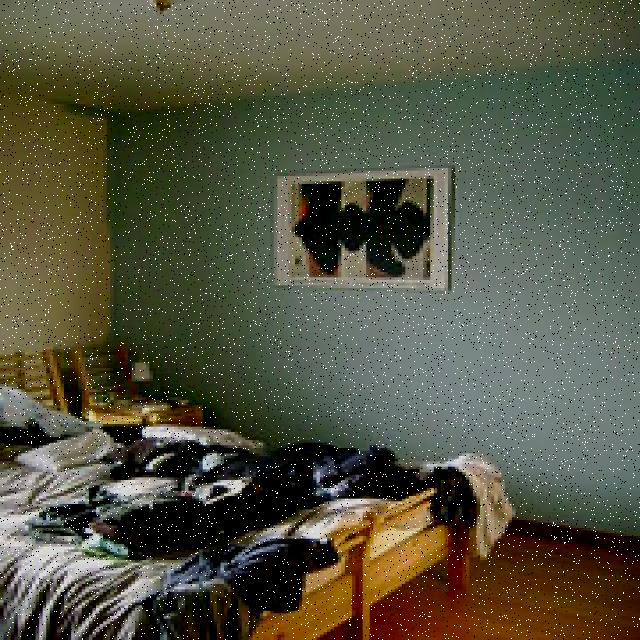bed: (0, 387, 514, 640)
